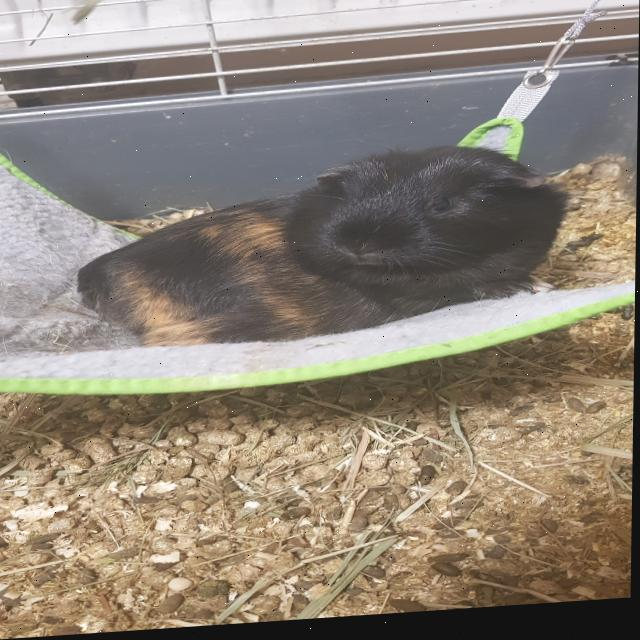guinea pig: (68, 142, 568, 360)
